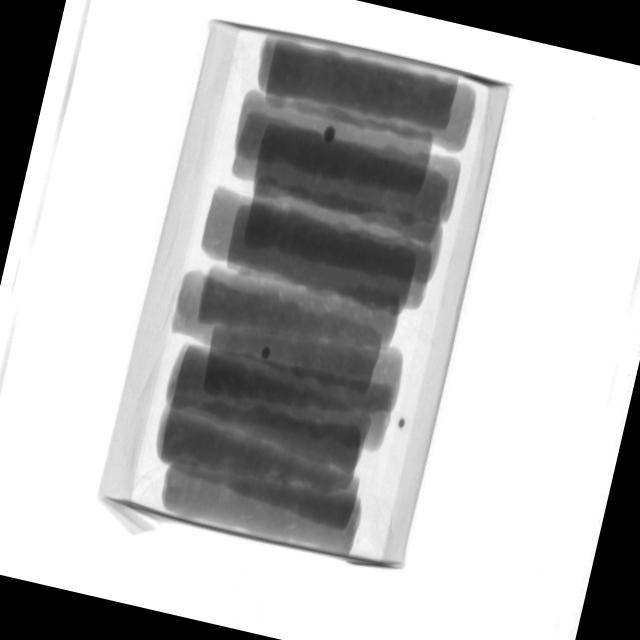ym: (323, 126, 339, 146), (262, 345, 274, 360), (399, 417, 409, 428)
